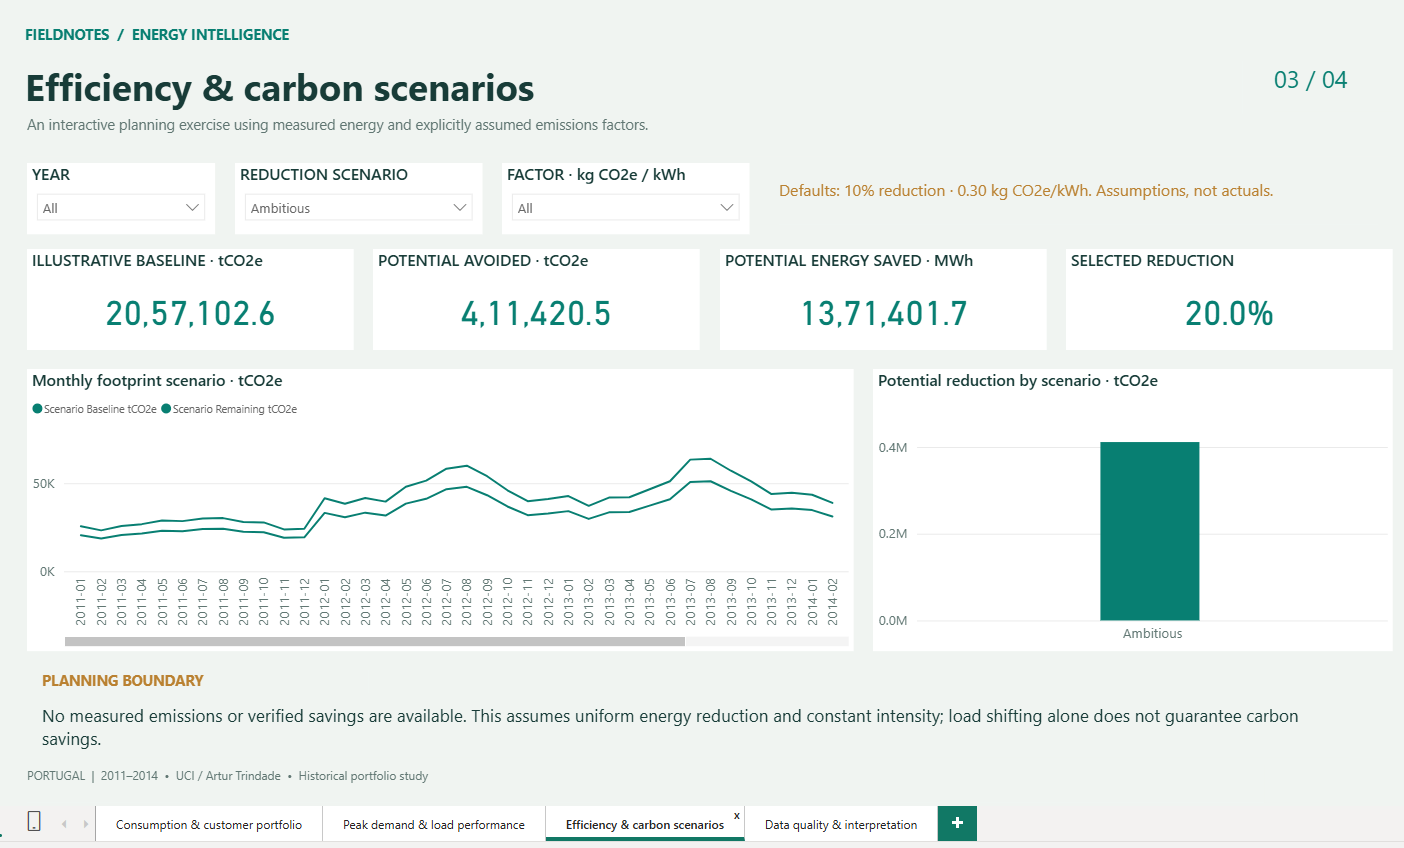

Layout of this report page (visuals, bound fields, positions):
{"tool":"powerbi","page":{"name":"Efficiency & carbon scenarios","canvas":[1440,800],"ordinal":2},"visuals":[{"type":"textbox","box":[28,10,1000,39.5],"z":35},{"type":"textbox","box":[28,47,1230,65],"z":36},{"type":"textbox","box":[30,101,1375,43],"z":37},{"type":"textbox","box":[1290,48,120,50],"z":38},{"type":"textbox","box":[30,759,1250,38],"z":39},{"type":"slicer","title":"YEAR","fields":{"Values":["Date.Year"]},"box":[30,151,190,72],"z":40},{"type":"slicer","title":"REDUCTION SCENARIO","fields":{"Values":["Scenario.Scenario"]},"box":[240,151,250,72],"z":41},{"type":"slicer","title":"FACTOR · kg CO2e / kWh","fields":{"Values":["CarbonFactor.Factor"]},"box":[510,151,250,72],"z":42},{"type":"textbox","box":[790,167,605,46],"z":43},{"type":"card","title":"ILLUSTRATIVE BASELINE · tCO2e","fields":{"Values":["Metrics.Scenario Baseline tCO2e"]},"box":[30,237,330,102],"z":44},{"type":"card","title":"POTENTIAL AVOIDED · tCO2e","fields":{"Values":["Metrics.Scenario Avoided tCO2e"]},"box":[380,237,330,102],"z":45},{"type":"card","title":"POTENTIAL ENERGY SAVED · MWh","fields":{"Values":["Metrics.Scenario Saved MWh"]},"box":[730,237,330,102],"z":46},{"type":"card","title":"SELECTED REDUCTION","fields":{"Values":["Metrics.Reduction Selected"]},"box":[1080,237,330,102],"z":47},{"type":"lineChart","title":"Monthly footprint scenario · tCO2e","fields":{"Category":["Date.Month"],"Y":["Metrics.Scenario Baseline tCO2e","Metrics.Scenario Remaining tCO2e"]},"box":[30,359,835,285],"z":48},{"type":"clusteredColumnChart","title":"Potential reduction by scenario · tCO2e","fields":{"Category":["Scenario.Scenario"],"Y":["Metrics.Scenario Avoided tCO2e"]},"box":[885,359,525,285],"z":49},{"type":"textbox","box":[45,663,330,39.5],"z":50},{"type":"textbox","box":[45,696,1320,55],"z":51}]}

Visuals, with their boxes on the page's 1440x800 design canvas (x1, y1, x2, y2). These are canvas units, not pixel positions in the 1404x848 screenshot, which may show the page scaled, cropped or inside an application window:
textbox: left=28, top=10, right=1028, bottom=50
textbox: left=28, top=47, right=1258, bottom=112
textbox: left=30, top=101, right=1405, bottom=144
textbox: left=1290, top=48, right=1410, bottom=98
textbox: left=30, top=759, right=1280, bottom=797
"YEAR" slicer: left=30, top=151, right=220, bottom=223
"REDUCTION SCENARIO" slicer: left=240, top=151, right=490, bottom=223
"FACTOR · kg CO2e / kWh" slicer: left=510, top=151, right=760, bottom=223
textbox: left=790, top=167, right=1395, bottom=213
"ILLUSTRATIVE BASELINE · tCO2e" card: left=30, top=237, right=360, bottom=339
"POTENTIAL AVOIDED · tCO2e" card: left=380, top=237, right=710, bottom=339
"POTENTIAL ENERGY SAVED · MWh" card: left=730, top=237, right=1060, bottom=339
"SELECTED REDUCTION" card: left=1080, top=237, right=1410, bottom=339
"Monthly footprint scenario · tCO2e" lineChart: left=30, top=359, right=865, bottom=644
"Potential reduction by scenario · tCO2e" clusteredColumnChart: left=885, top=359, right=1410, bottom=644
textbox: left=45, top=663, right=375, bottom=702
textbox: left=45, top=696, right=1365, bottom=751
